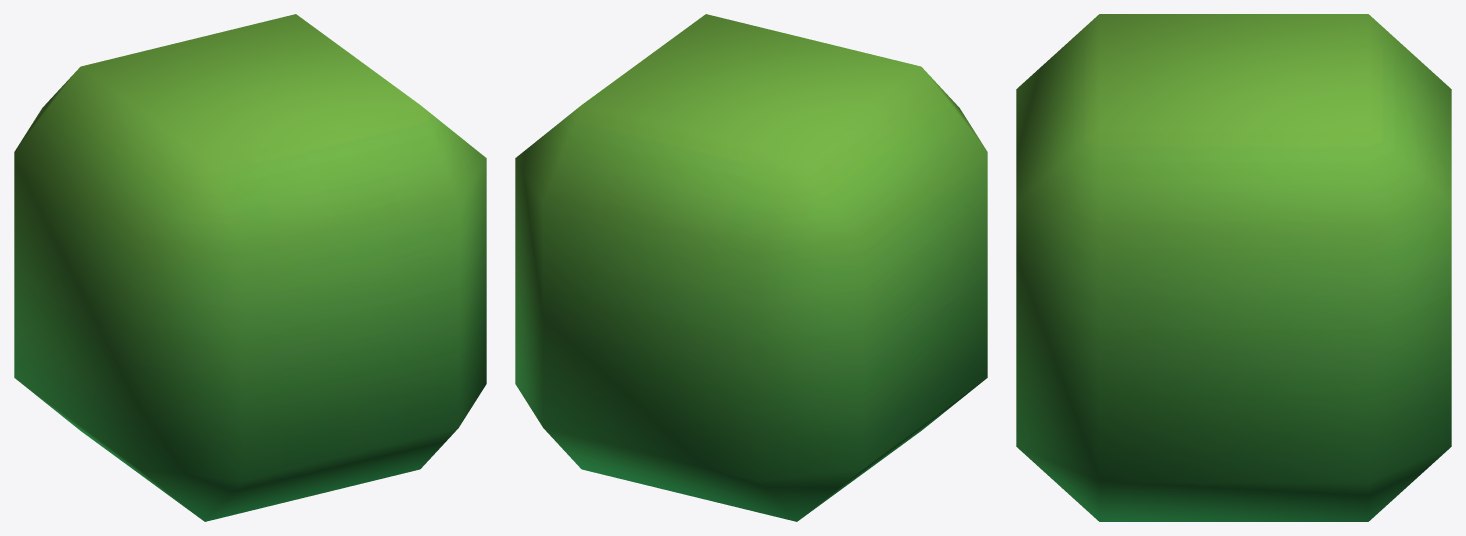
Rendered from Bush_2_A_Color1.gltf.
3 views of the same model, side by side, from view 1: azimuth 30°, elevation 25°; view 2: azimuth 150°, elevation 25°; view 3: azimuth 270°, elevation 25° (orthographic). The views are drawn at different scales.
Visible parts, largest first — view 1: Bush_2_A_Color1; view 2: Bush_2_A_Color1; view 3: Bush_2_A_Color1.
Part boxes in pixels (x1,y1,x2,y2): Bush_2_A_Color1: [14, 14, 486, 521]; Bush_2_A_Color1: [515, 14, 987, 521]; Bush_2_A_Color1: [1016, 14, 1451, 521].
Bounding box in the file's own units: 0.528 × 0.528 × 0.528.
Materials: 1 (1 with a texture image).
